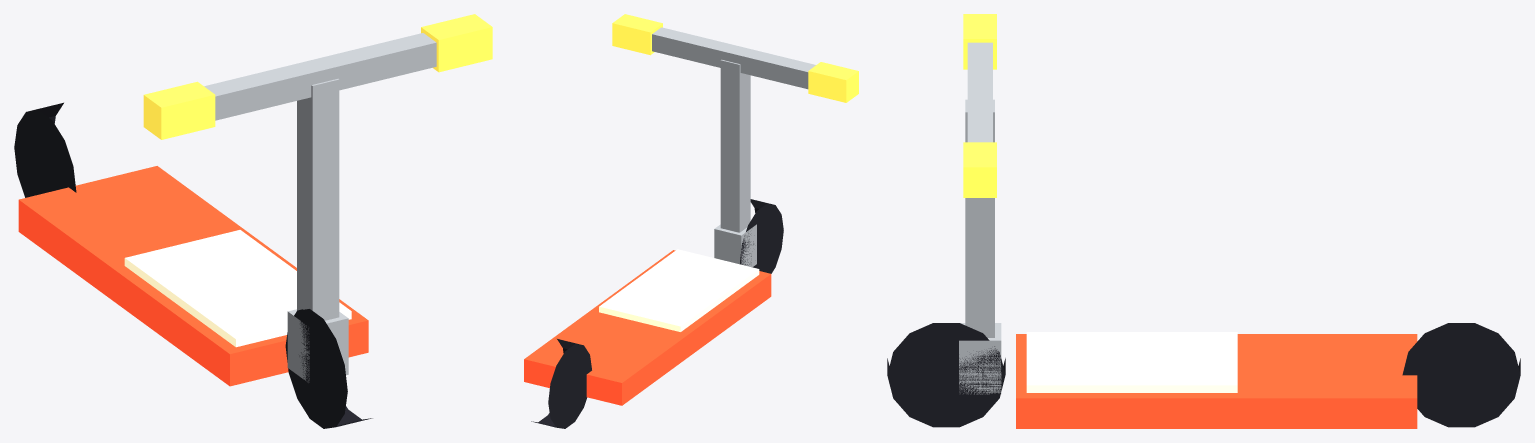
Rendered from scooter.gltf.
3 renders of one model, left to right at view 1: azimuth 30°, elevation 25°; view 2: azimuth 150°, elevation 25°; view 3: azimuth 270°, elevation 25°, orthographic. The views are drawn at different scales.
Visible parts, largest first — view 1: scooter; view 2: scooter; view 3: scooter.
Boxes of the visible parts, x1=… form: scooter: x1=14, y1=14, x2=492, y2=428; scooter: x1=524, y1=14, x2=858, y2=428; scooter: x1=887, y1=14, x2=1520, y2=428.
Bounding box in the file's own units: 1.29 × 1.28 × 2.25.
